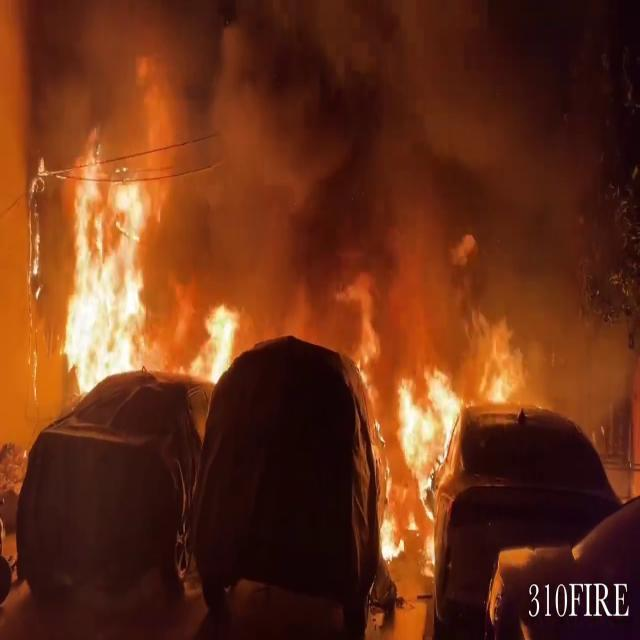Fire: (54, 137, 162, 400), (378, 358, 468, 562), (189, 296, 249, 396)
Smoke: (9, 0, 637, 386)
